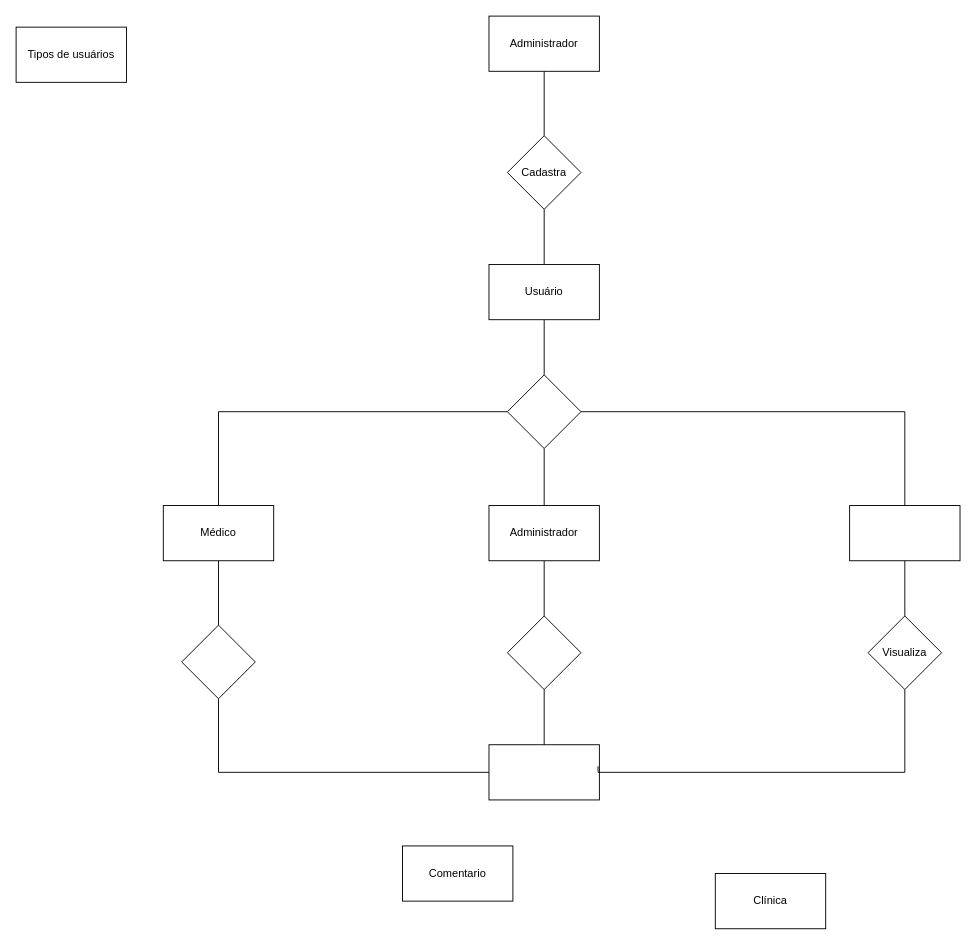
The diagram is 976 pixels wide and 945 high, and some of its shapes have lost their labels. The shapes that lost their labels are listed below. From the top down, each one's centre as x and y in pixels, then its label:
At point 543,411: "Sendo".
At point 904,533: "Paciente".
At point 218,661: "Poderá ver".
At point 543,652: "Agenda".
At point 543,772: "Consulta".
